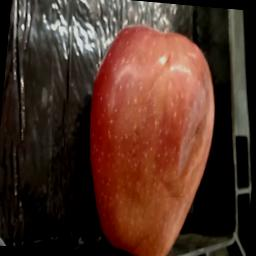Apple Overripe: (72, 15, 221, 256)
